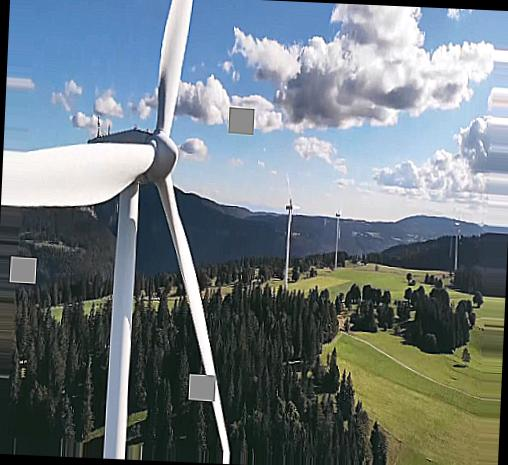wind turbine: (281, 171, 304, 284)
